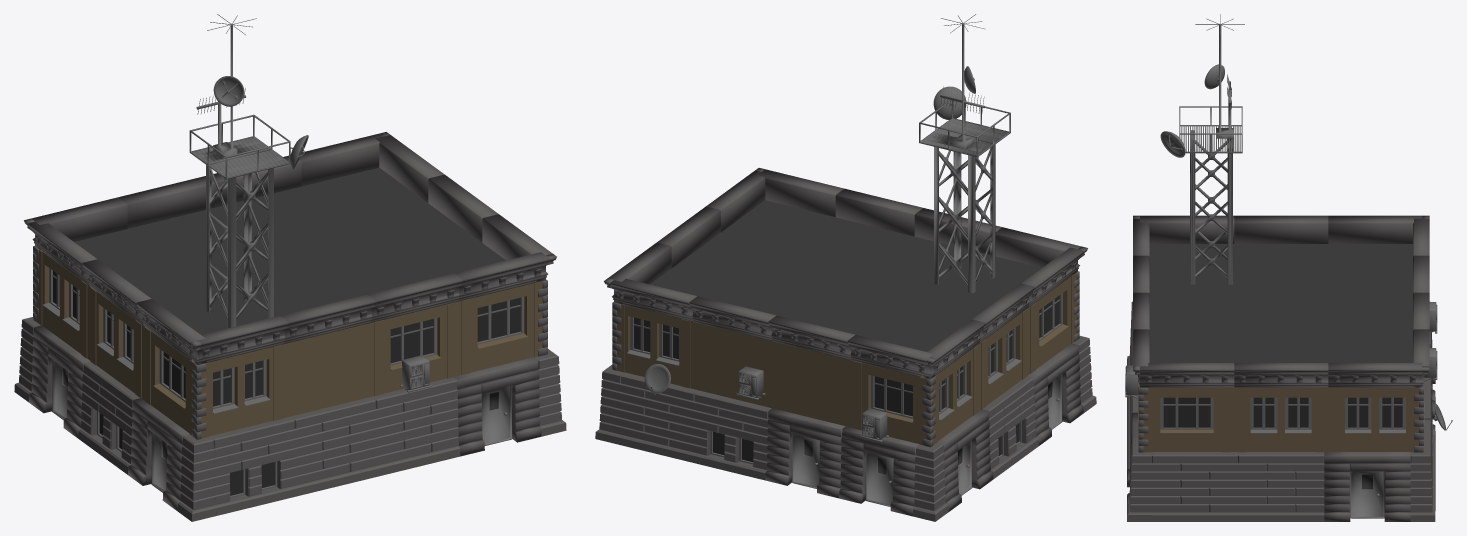
File: buildify_1.0.fbx
3 renders of one model, left to right at view 1: azimuth 30°, elevation 25°; view 2: azimuth 150°, elevation 25°; view 3: azimuth 270°, elevation 25°, orthographic. The views are drawn at different scales.
Parts seen in each view (by area): view 1: building_base; view 2: building_base; view 3: building_base.
Boxes of the visible parts, <box> form: building_base: <box>14,14,566,521</box>; building_base: <box>595,14,1096,521</box>; building_base: <box>1125,14,1452,521</box>.
Size of the model in its own units: 1588 by 1768 by 1385.
